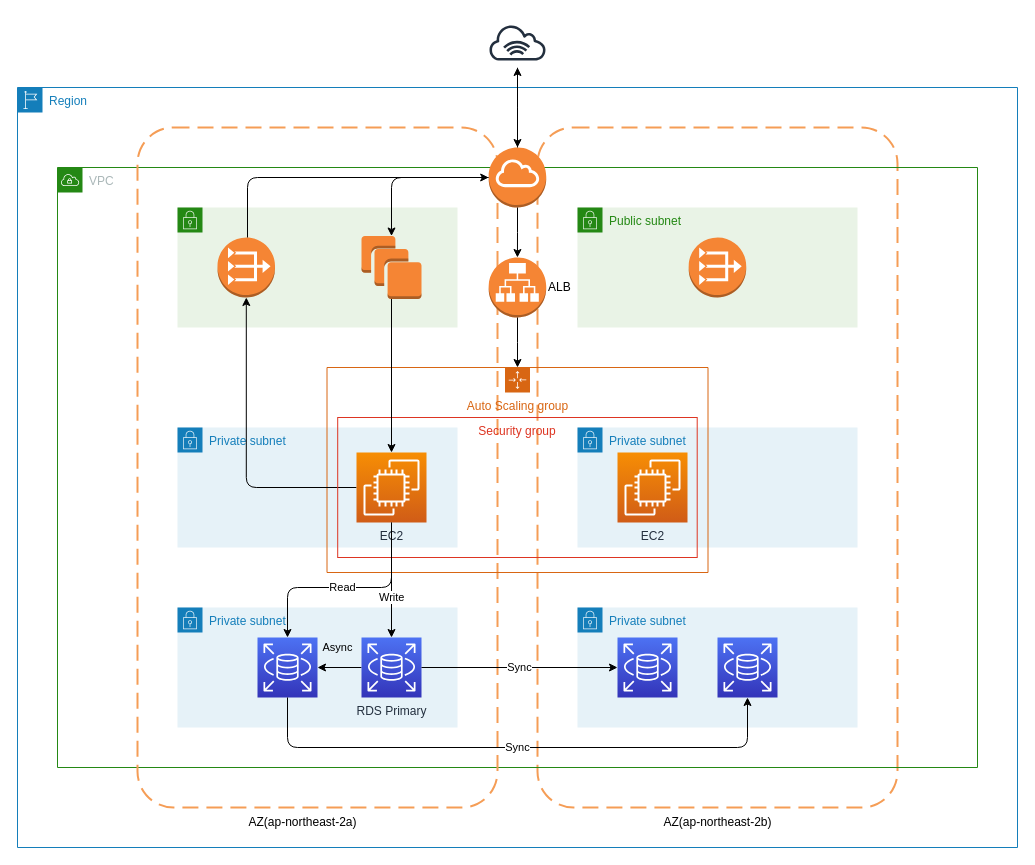
The diagram is 1035 pixels wide and 865 high, and some of its shapes have lost their labels. The centre of each missing label's shape, as x and y in pixels:
Bastion Host: the point at 391,267
Internet Gateway: the point at 517,177
NAT Gateway: the point at 717,267
RDS Primary Standby: the point at 647,667
RDS Read Replica: the point at 287,667
RDS Red Replica Standby: the point at 747,667
